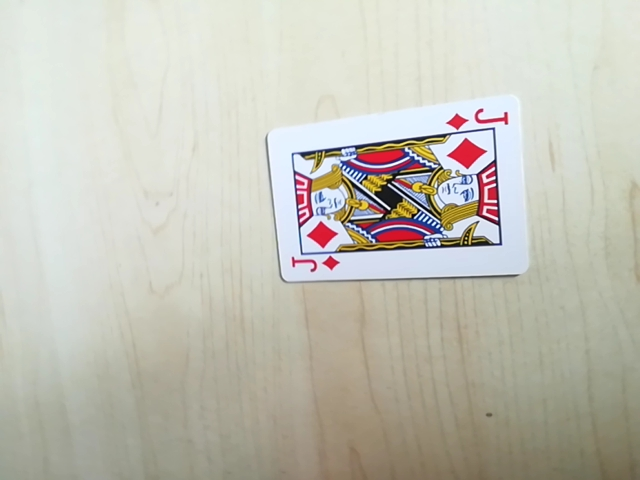fk j: (445, 103, 513, 133), (287, 251, 342, 279)
